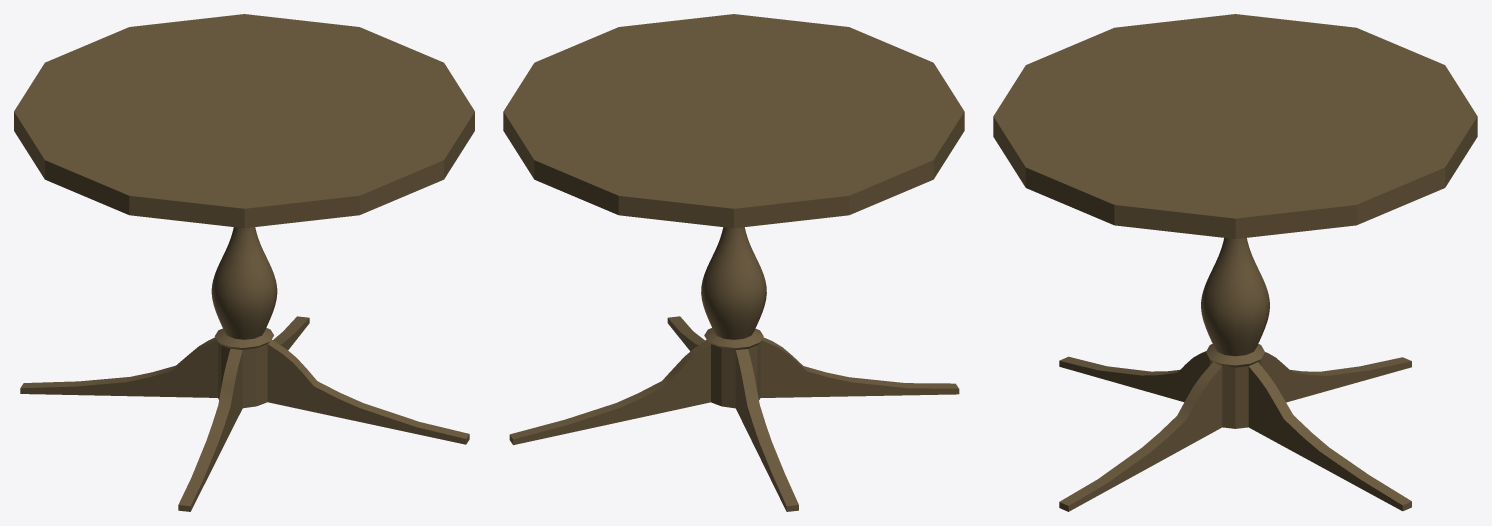
The model's file is SideTable.fbx.
3 views of the same model, side by side, from view 1: azimuth 30°, elevation 25°; view 2: azimuth 150°, elevation 25°; view 3: azimuth 270°, elevation 25° (orthographic). The views are drawn at different scales.
Visible parts, largest first — view 1: Table; view 2: Table; view 3: Table.
Part boxes in pixels (x1,y1,x2,y2): Table: (14,14,474,511); Table: (503,14,964,511); Table: (993,14,1477,511).
Size of the model in its own units: 59.39 by 43.44 by 59.39.
